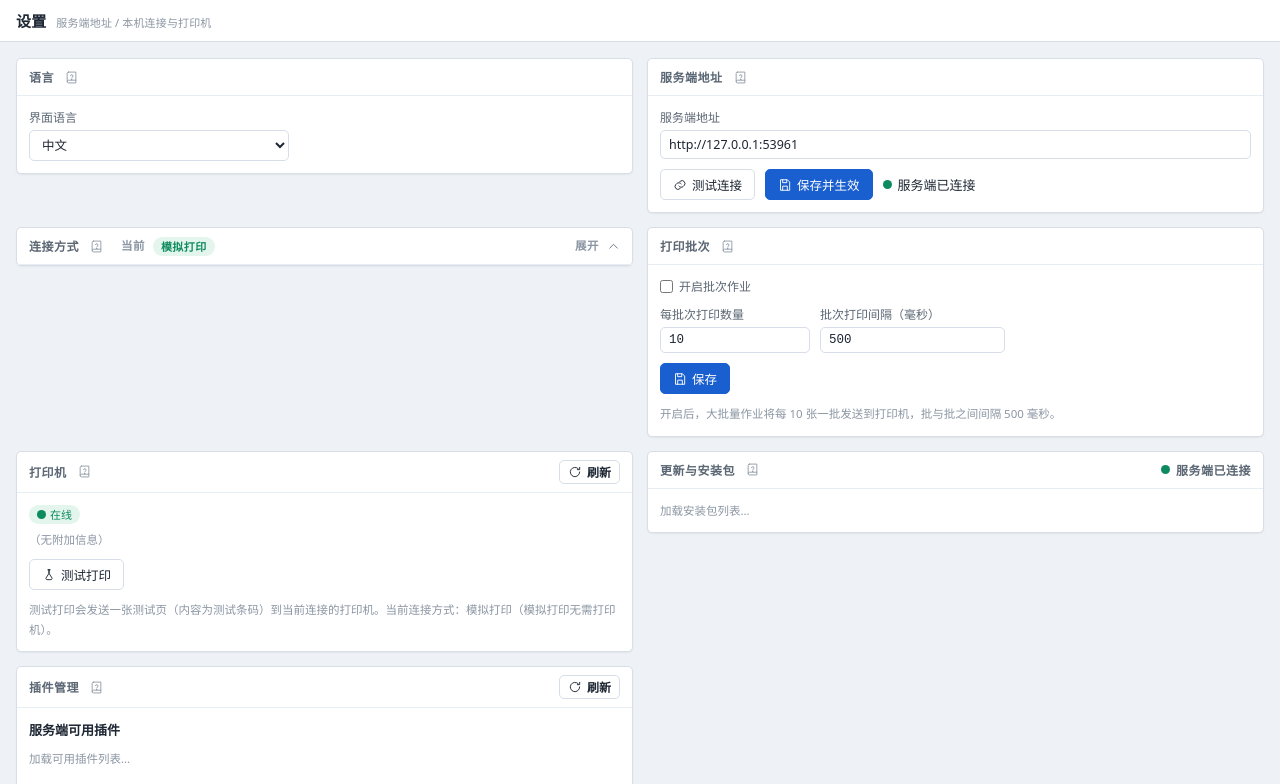
第二批迁移页面双语渲染冒烟（迭代 112 · #246） › 设置页：中文态各卡片 → 切 en 全英文且无 CJK（含连接方式面板展开）
The image size is (1280, 784).
Expected: the text "服务端地址" is shown, [648,59,1263,96]
Expected: the text "连接方式" is shown, [29,238,79,255]
展开连接方式：模式单选项（modeLabel 随语言）
Click the text "连接方式": x=324, y=246 [17,228,632,265]
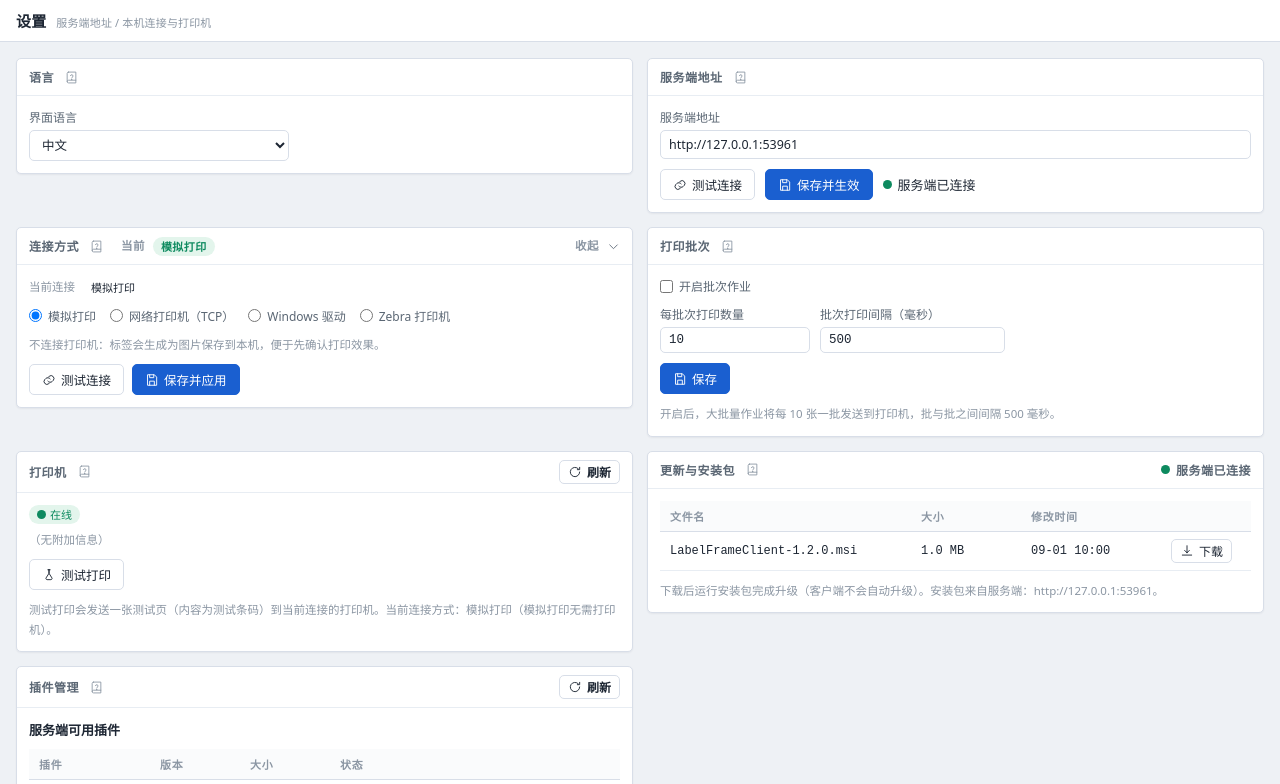
Result: the radio button named "Simulated printing" is shown at [29,309,42,322]
Result: the radio button named "Network printer" is shown at [110,309,123,322]
Result: the column heading named "File Name" is shown at [660,500,911,531]
